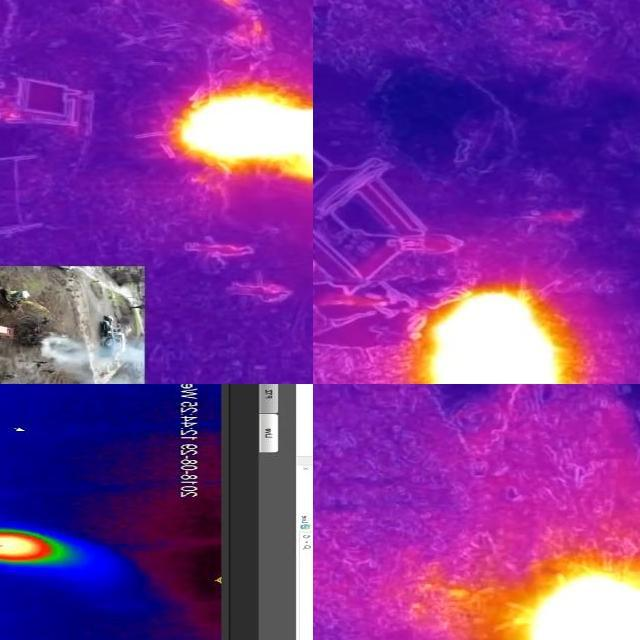fire: (412, 283, 592, 385), (178, 83, 314, 183), (499, 548, 640, 640), (1, 529, 72, 563)
